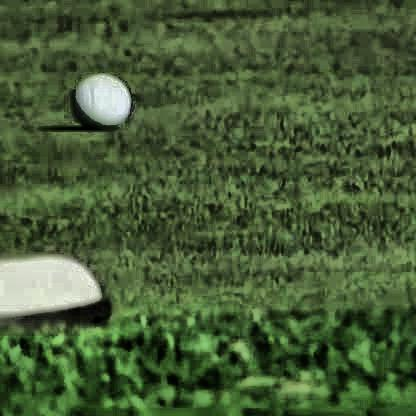golfball: (69, 72, 128, 128)
